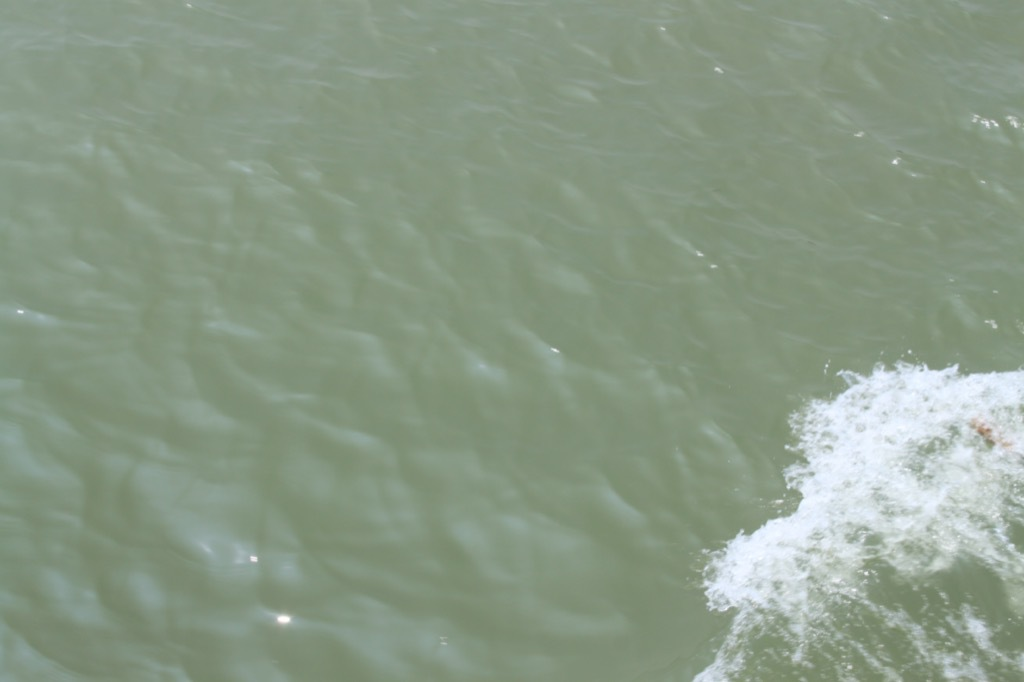plastic: (935, 375, 1024, 471)
